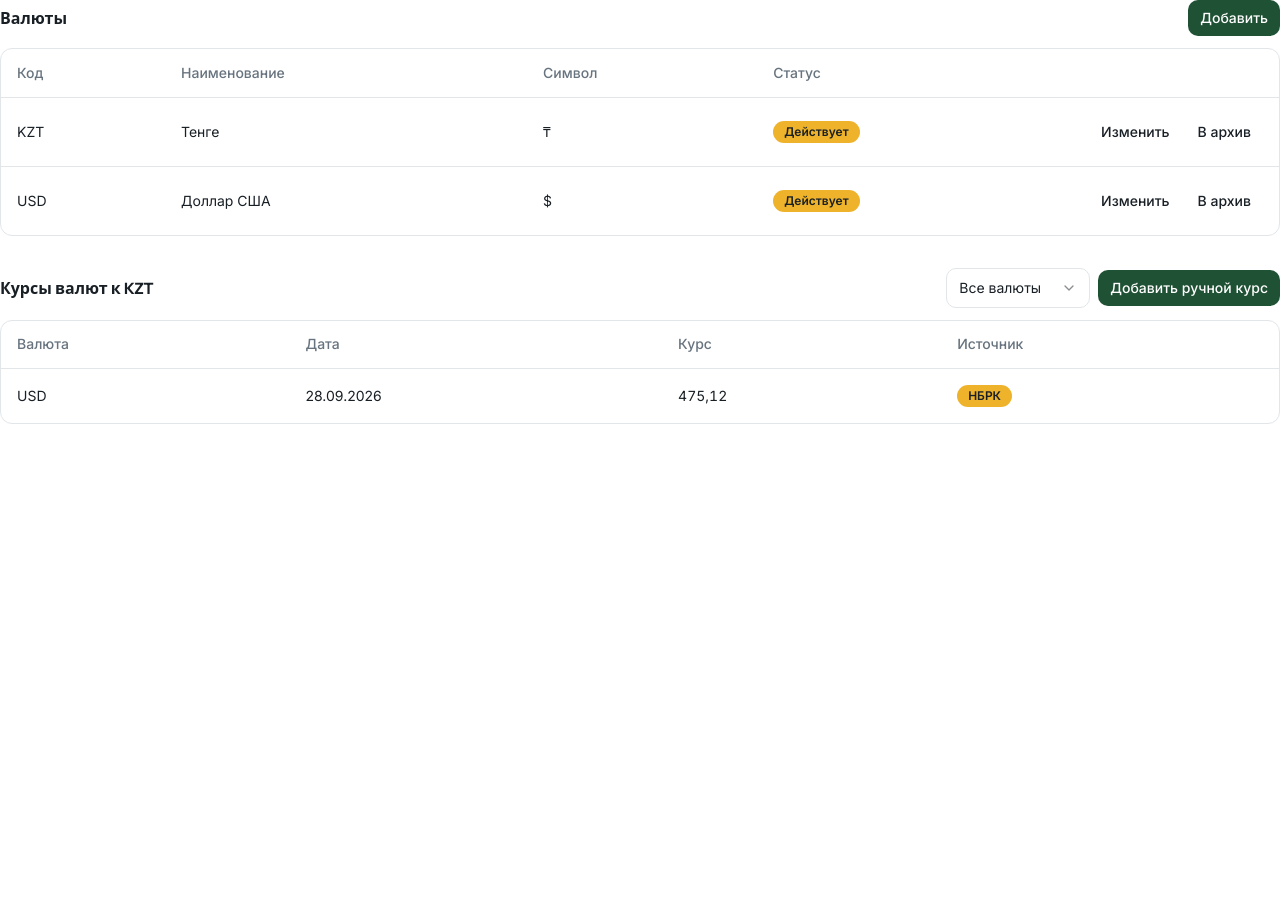
Валюты и курсы › в УК — ручной курс уходит строкой, без округления
Expected: the text "475,12" is shown, [662, 368, 941, 423]
Click the button "Добавить ручной курс" at x=1189, y=288, box [1098, 270, 1279, 306]
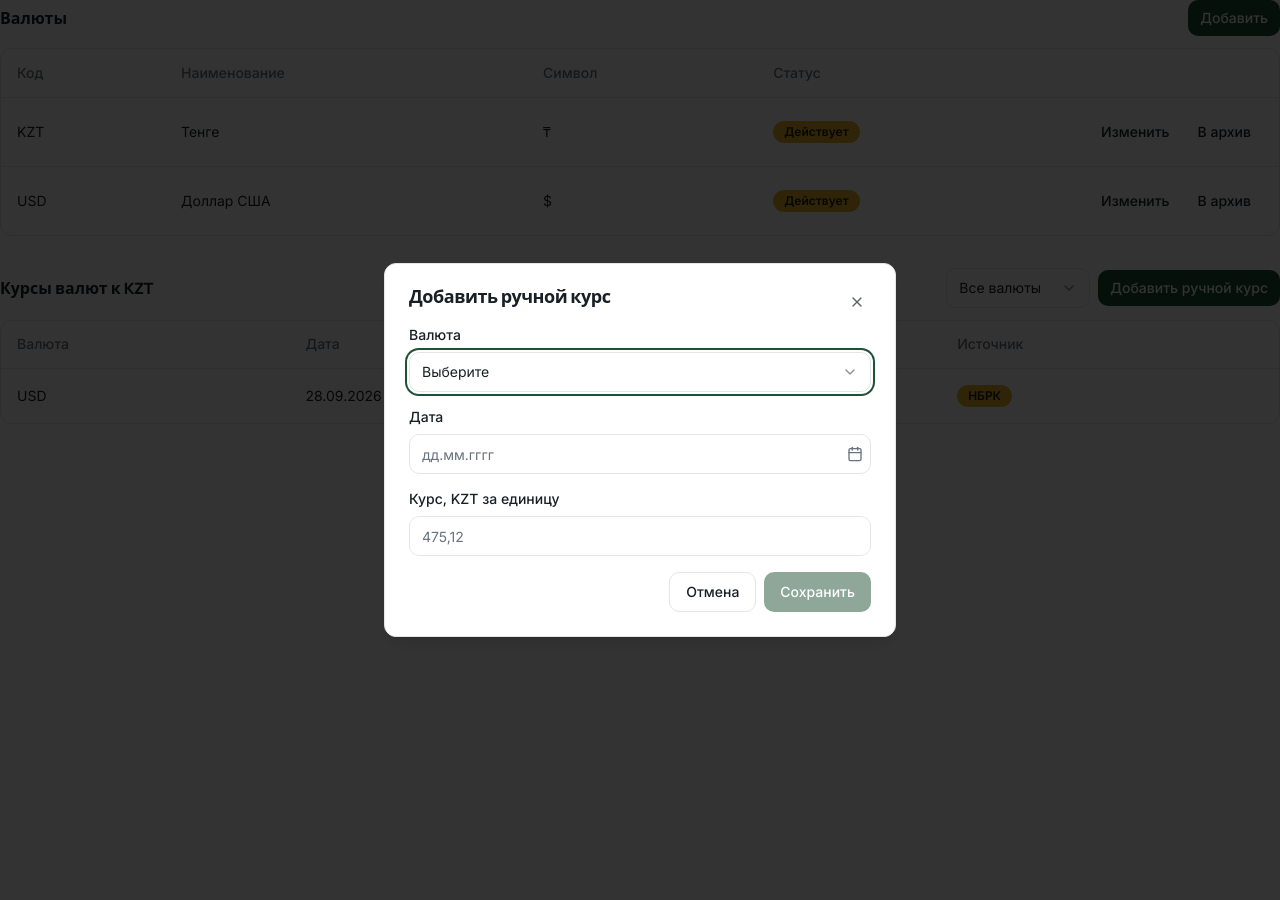
Result: the button "Сохранить" is disabled at [764, 572, 871, 612]
Type "475,1234567" into the field labelled "Курс, KZT за единицу" at x=640, y=536, box [409, 516, 871, 556]
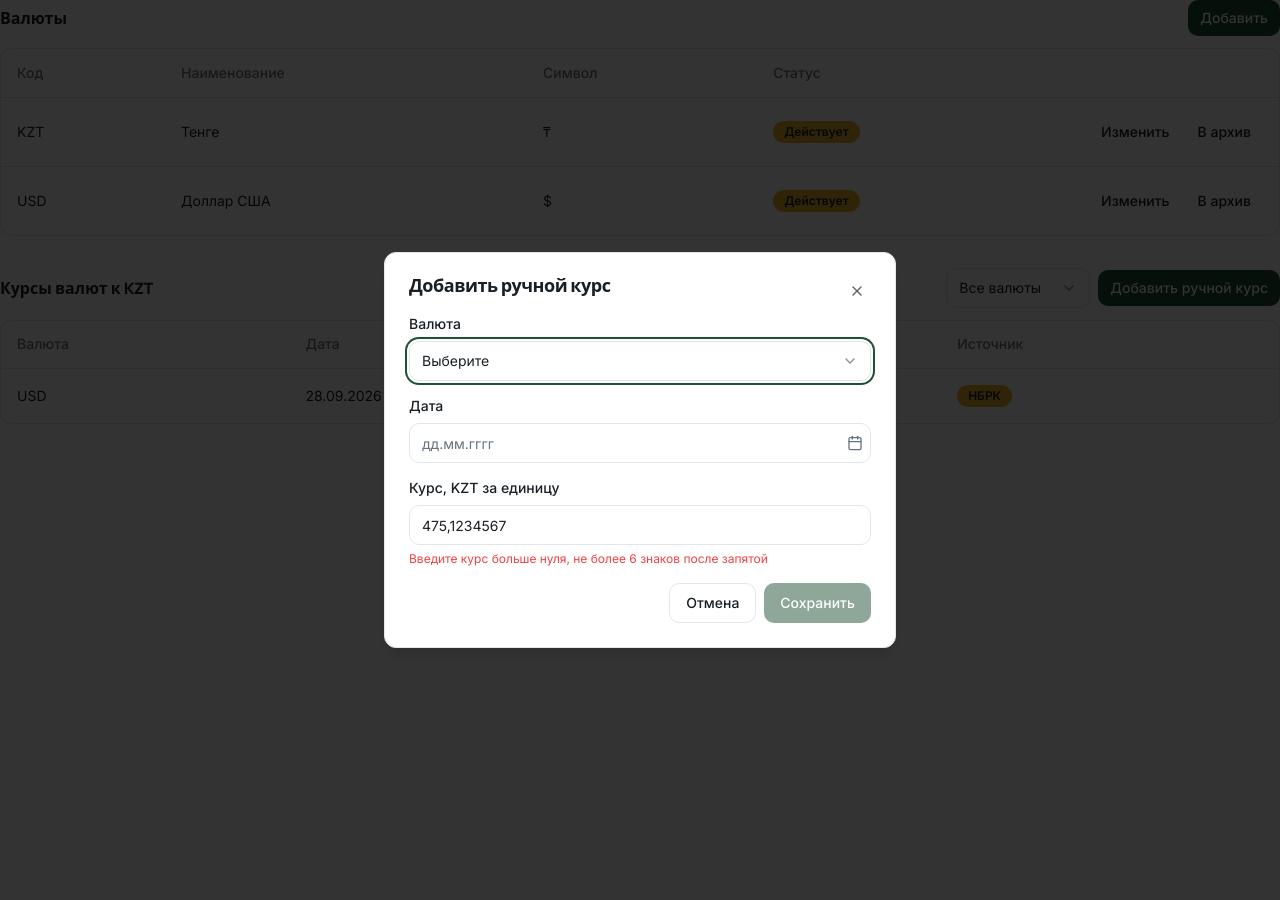
Result: the text "Введите курс больше нуля, не более 6 знаков после запятой" is shown at [409, 551, 768, 566]
